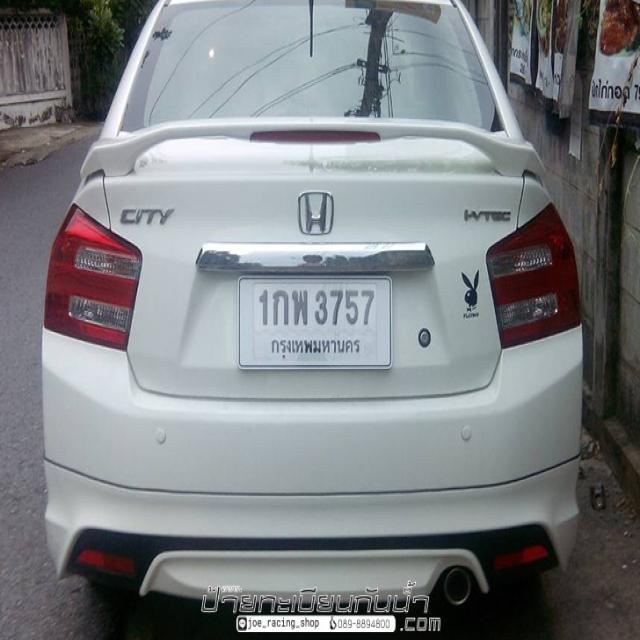license_plate: (237, 274, 395, 374)
